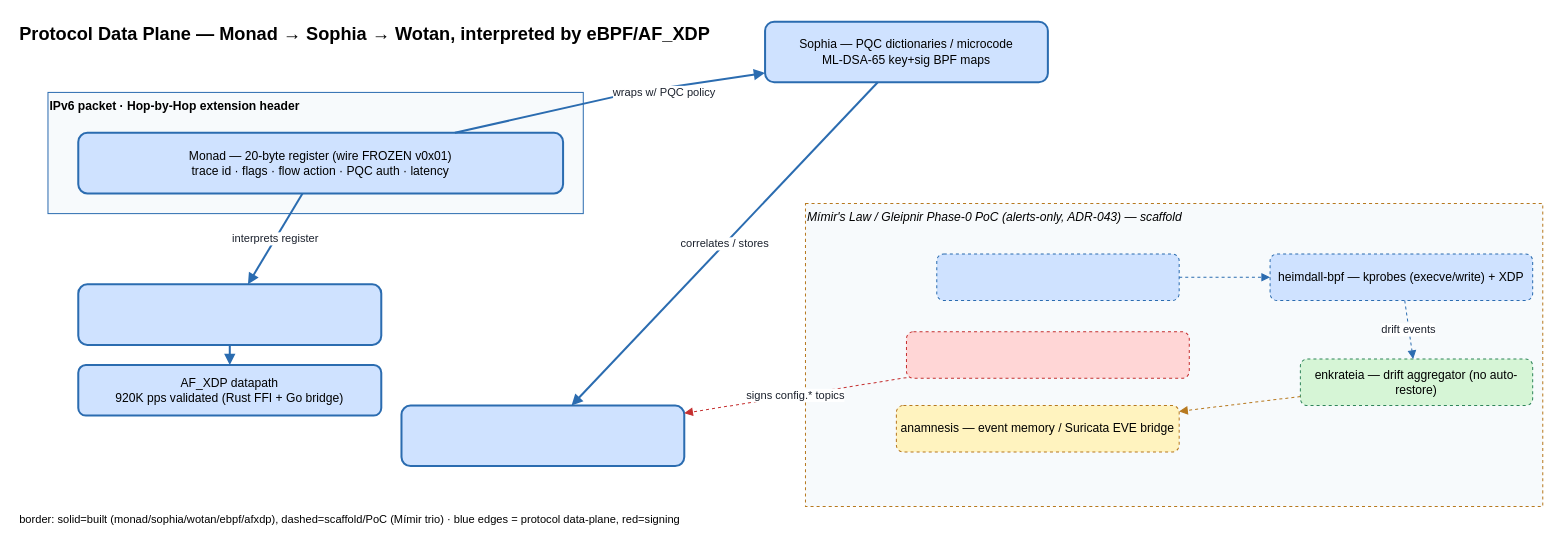
The diagram is 1560 pixels wide and 543 high, and some of its shapes have lost their labels. The shapes that lost their labels are listed below. From the top down, each one's centre as x and y in pixels, then its label:
At pixel 1057 276: "gjallarhorn — 20-byte UPC trigger packets".
At pixel 229 314: "eBPF programs (23) packet_marker · flow_tracker · latency_probe".
At pixel 1047 354: "gungnir — ML-DSA-65 sealed payloads / config signing".
At pixel 542 435: "Wotan — distributed memory / msg bus ring buffer · pub/sub · protocol RAM".
